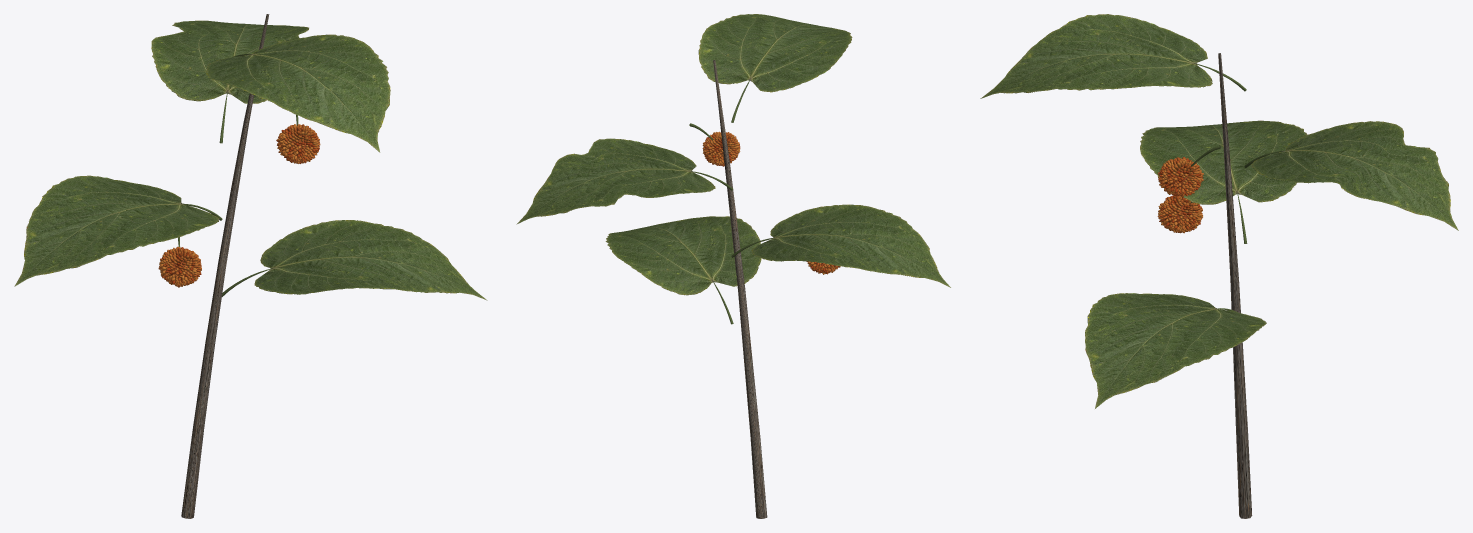
The model's file is broussonetia-detail.glb.
3 views of the same model, side by side, from view 1: azimuth 30°, elevation 25°; view 2: azimuth 150°, elevation 25°; view 3: azimuth 270°, elevation 25° (orthographic). The views are drawn at different scales.
Visible parts, largest first — view 1: leaf, bark, fruit-detail; view 2: leaf, bark, fruit-detail, stem; view 3: leaf, bark, fruit-detail, stem.
Boxes of the visible parts, <box> form: leaf: <box>14,20,486,299</box>; bark: <box>181,14,269,518</box>; fruit-detail: <box>158,124,320,287</box>; leaf: <box>516,14,950,295</box>; bark: <box>713,60,767,518</box>; fruit-detail: <box>702,131,840,274</box>; stem: <box>689,79,774,324</box>; leaf: <box>980,14,1458,408</box>; bark: <box>1218,53,1252,518</box>; fruit-detail: <box>1157,157,1203,233</box>; stem: <box>1191,63,1286,312</box>.
Bounding box in the file's own units: 0.3726 × 0.4207 × 0.3683.
6 materials, 5 textured.
